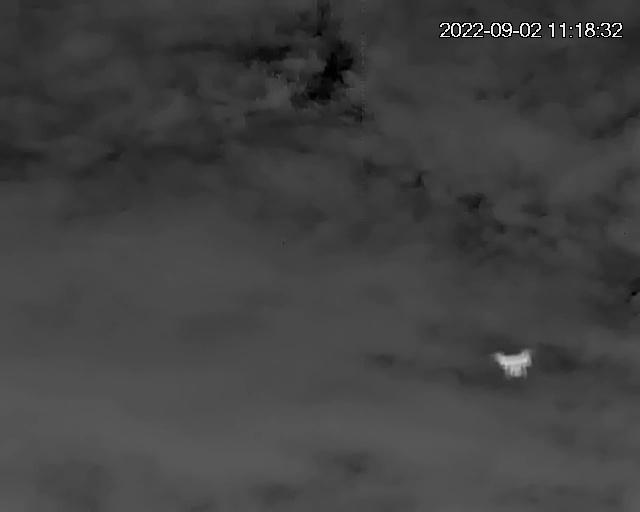DJI-Phantom: (492, 346, 537, 382)
